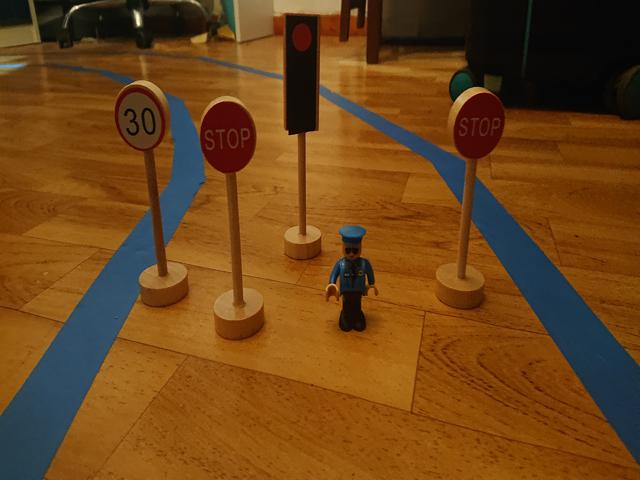30 speed sign: (114, 85, 165, 151)
person: (322, 223, 379, 332)
red light: (284, 16, 317, 122)
stop sign: (197, 102, 256, 174), (452, 91, 505, 158)
